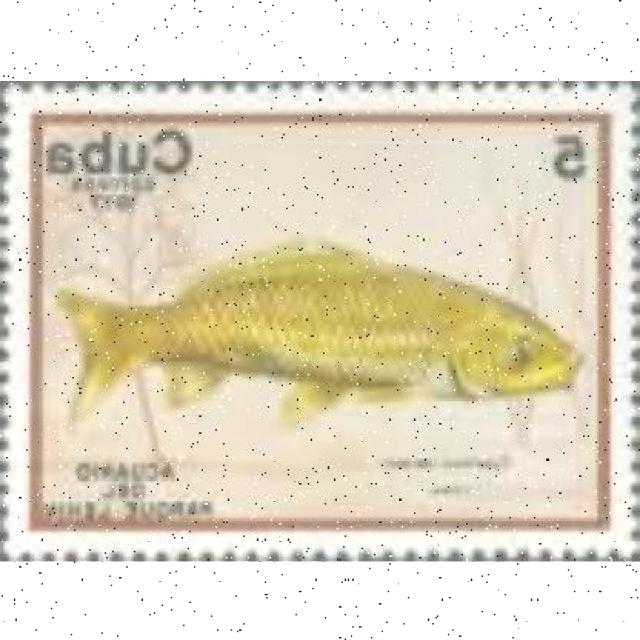ikan-mas: (58, 232, 576, 414)
